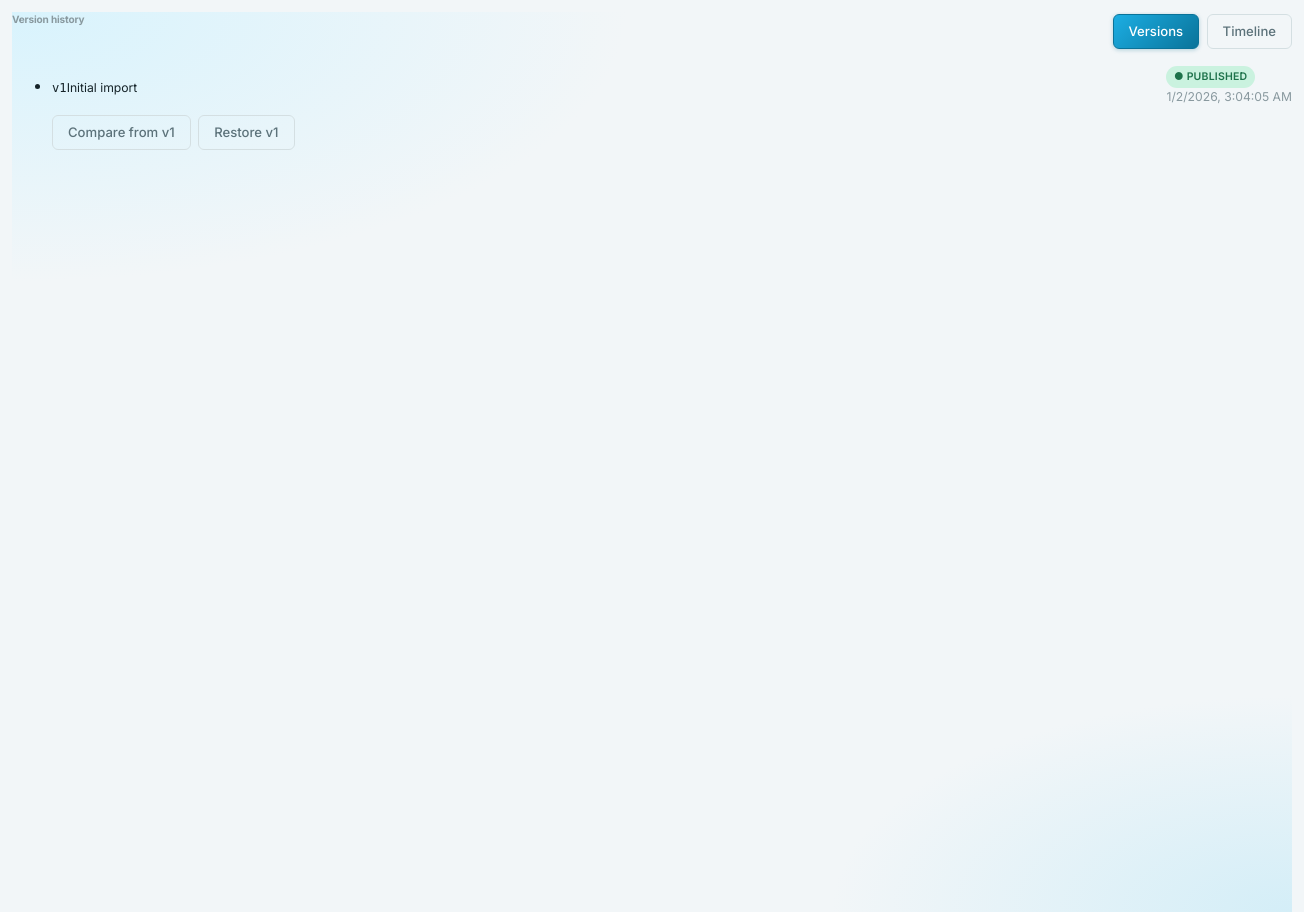
Scenario: HistoryTab restore › tells the user that restore records a new version rather than rewinding
Click the button with test id "history-restore-1" at [246, 132], box [198,115,294,150]
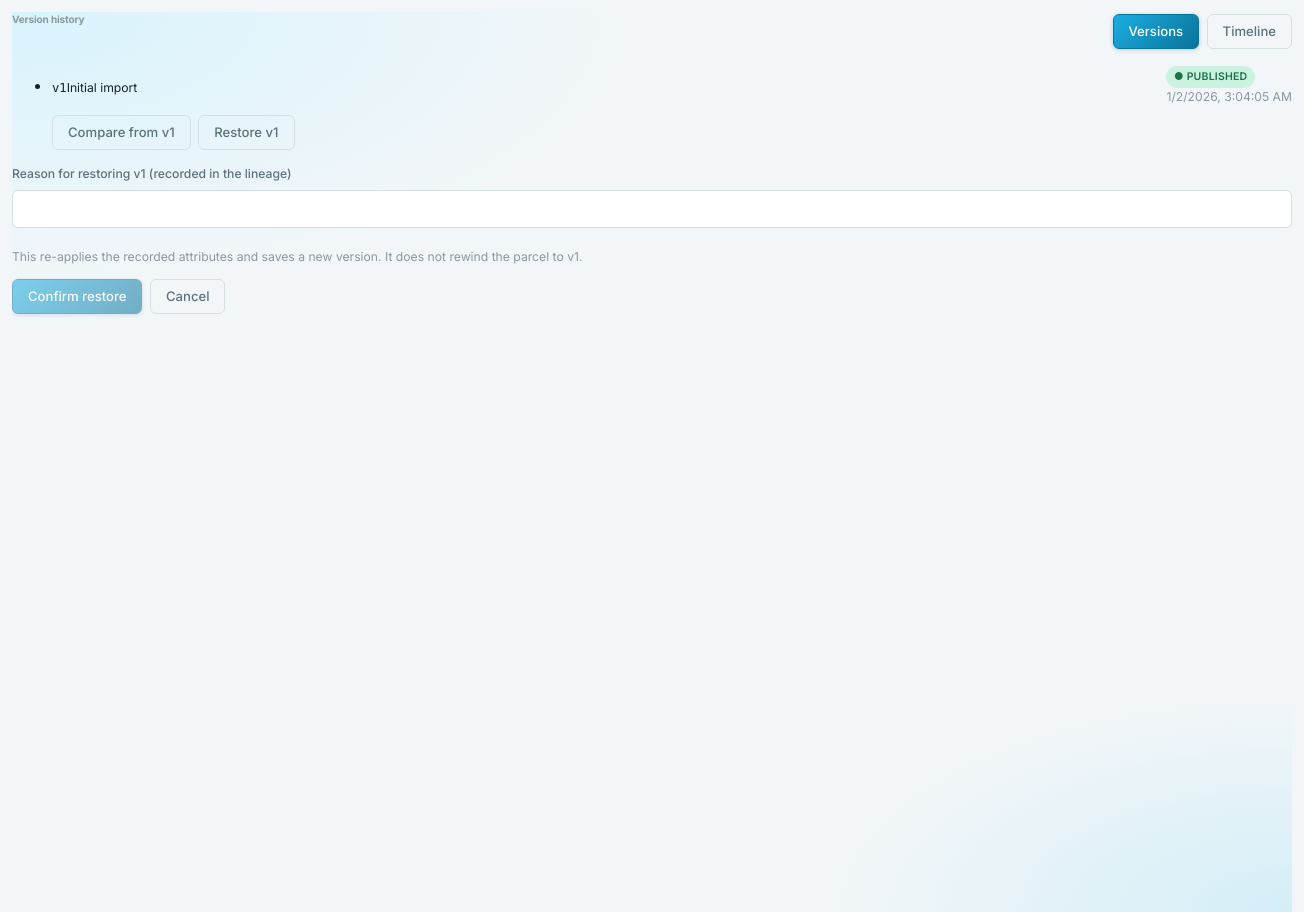
Check: the element with test id "history-restore-panel" shows "does not rewind", box [12,249,574,264]
